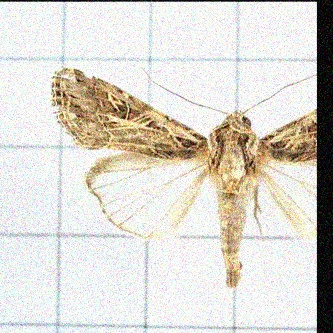Spodoptera litura: (49, 66, 315, 289)
